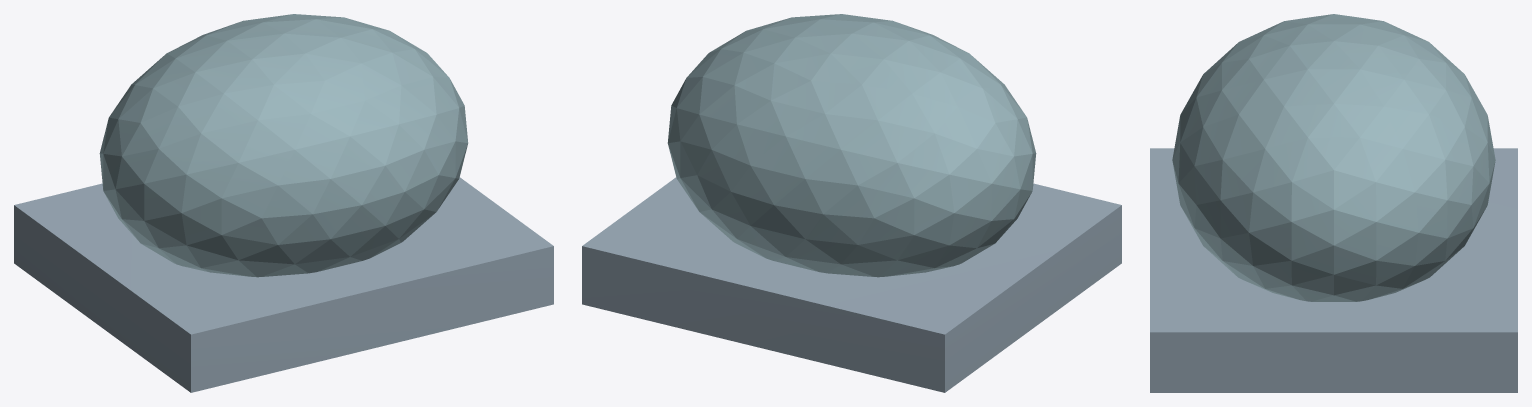
The model's file is stadium-03.glb.
3 views of the same model, side by side, from view 1: azimuth 30°, elevation 25°; view 2: azimuth 150°, elevation 25°; view 3: azimuth 270°, elevation 25° (orthographic). The views are drawn at different scales.
Visible parts, largest first — view 1: world; view 2: world; view 3: world.
Part boxes in pixels (x1,y1,x2,y2): world: (14,14,553,392); world: (582,14,1121,392); world: (1150,14,1517,392).
Bounding box in the file's own units: 1.3 × 0.8579 × 1.1.
